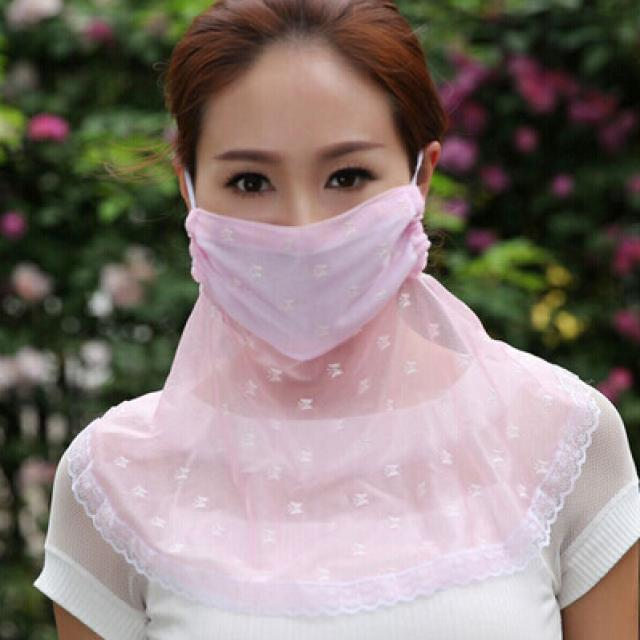mask: (193, 52, 410, 346)
